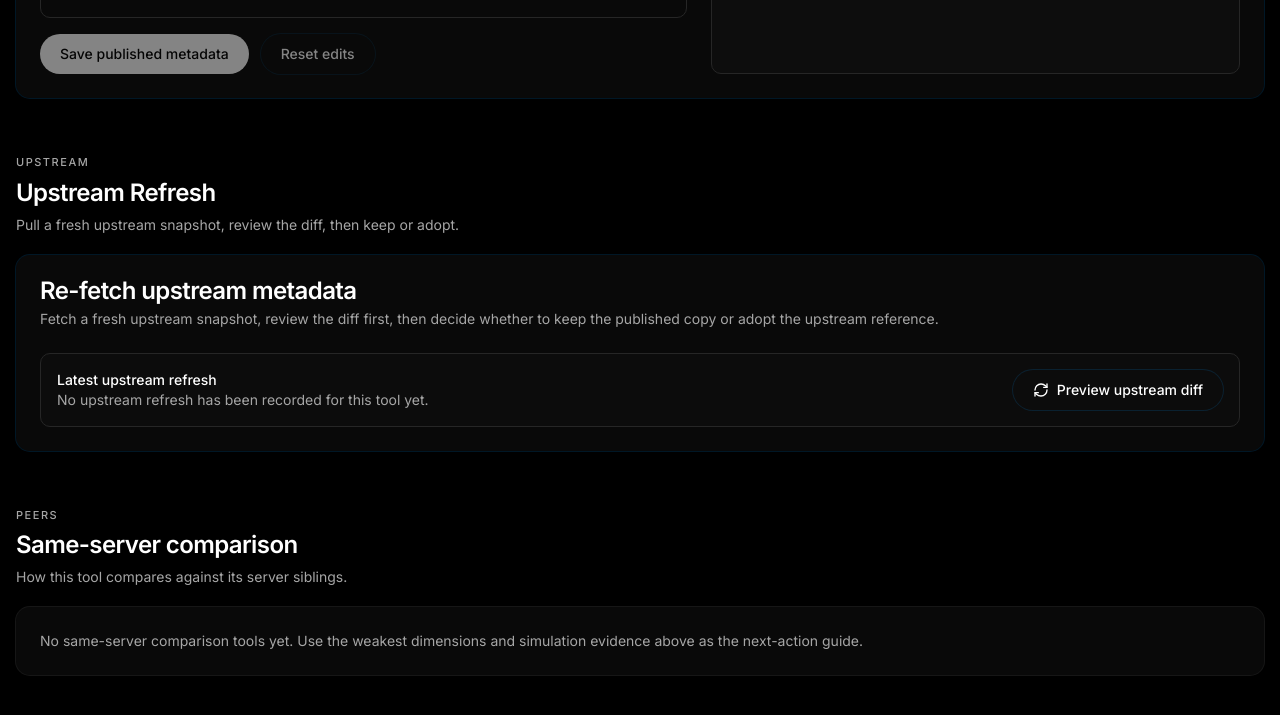
Test case: DashboardToolDetail › renders refresh diff actions and warning state for schema changes
(page scrolled)
Expected: the heading "Re-fetch upstream metadata" is shown, [40,276,356,305]
Click the button "Preview upstream diff".
click(1118, 390)  # box [1013,370,1223,410]
(page scrolled)
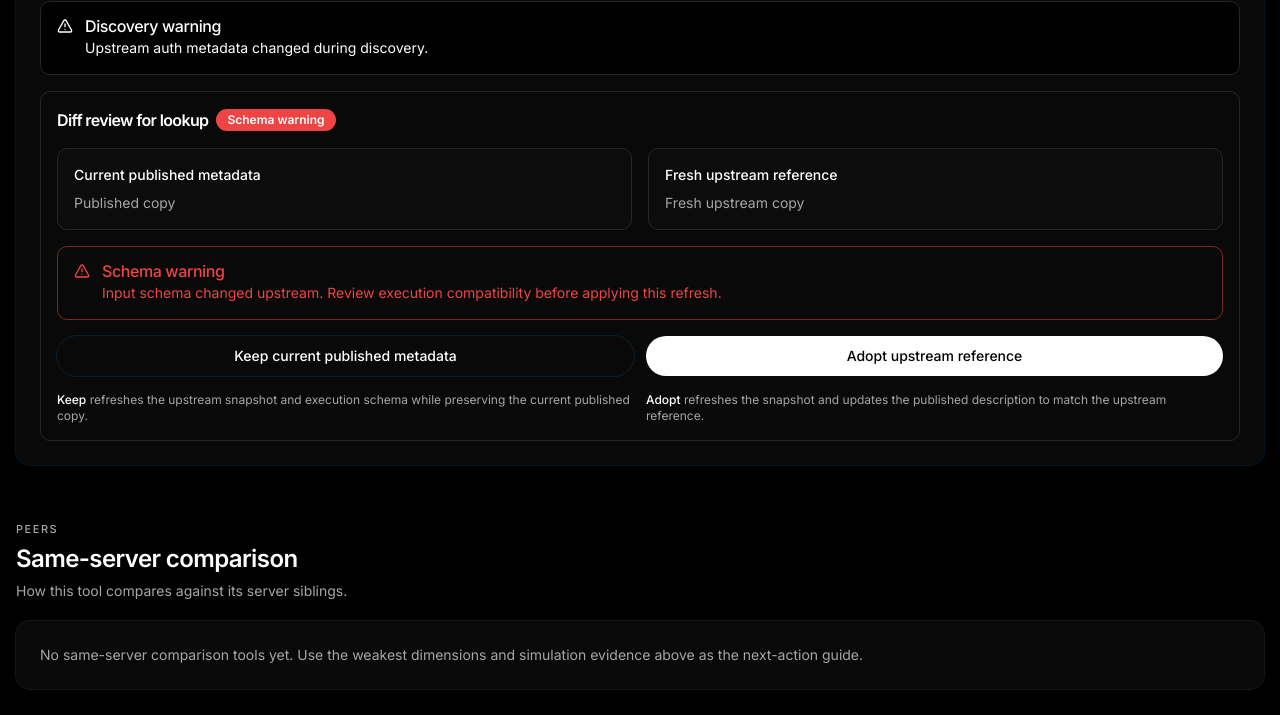
Expected: the text "Schema warning" is shown 2 times, [216,109,336,131]; [102,261,224,281]
Expected: the text "Input schema changed upstream" is shown, [102,284,722,301]
Expected: the text "Fresh upstream copy" is shown, [665,194,804,211]
